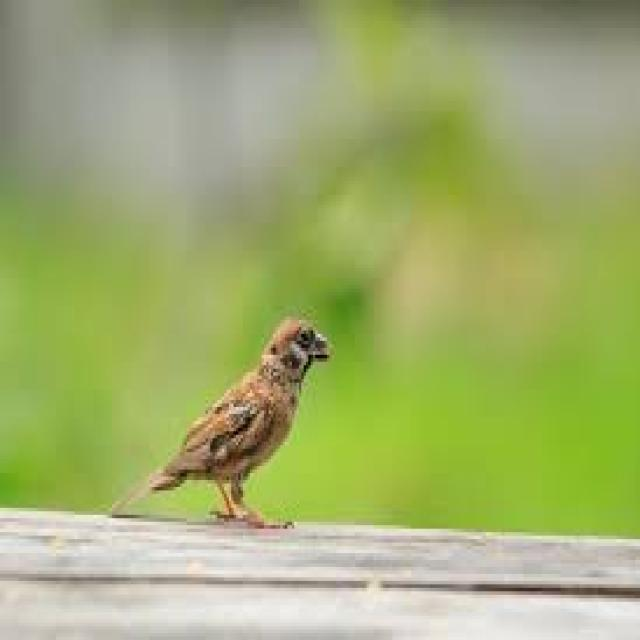bird: (147, 317, 329, 526)
